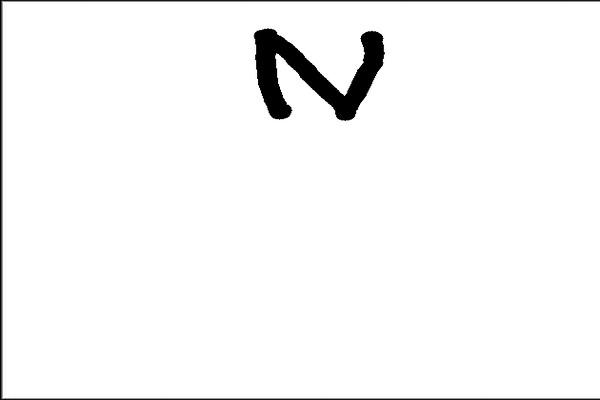N: (244, 20, 391, 126)
